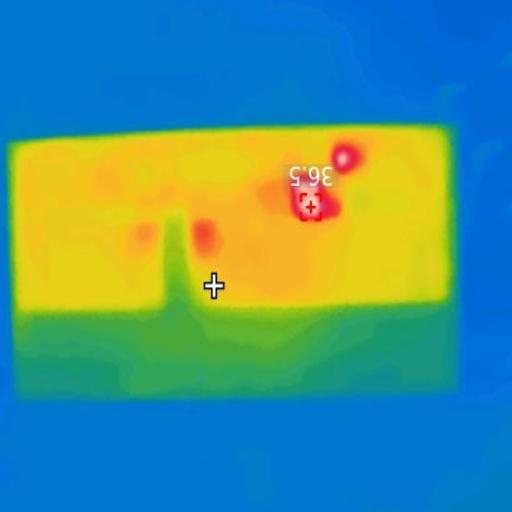hotspot: (294, 177, 321, 216), (333, 145, 357, 170)
